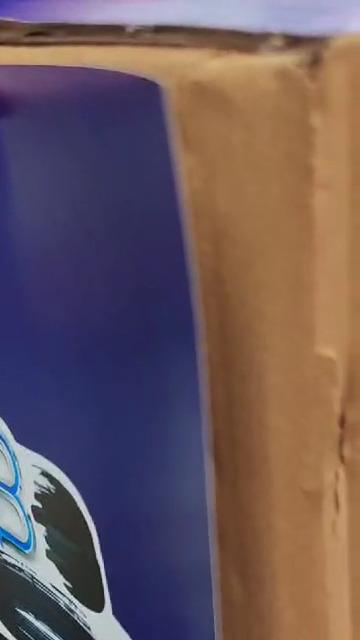B_R1: (0, 332, 242, 640)
